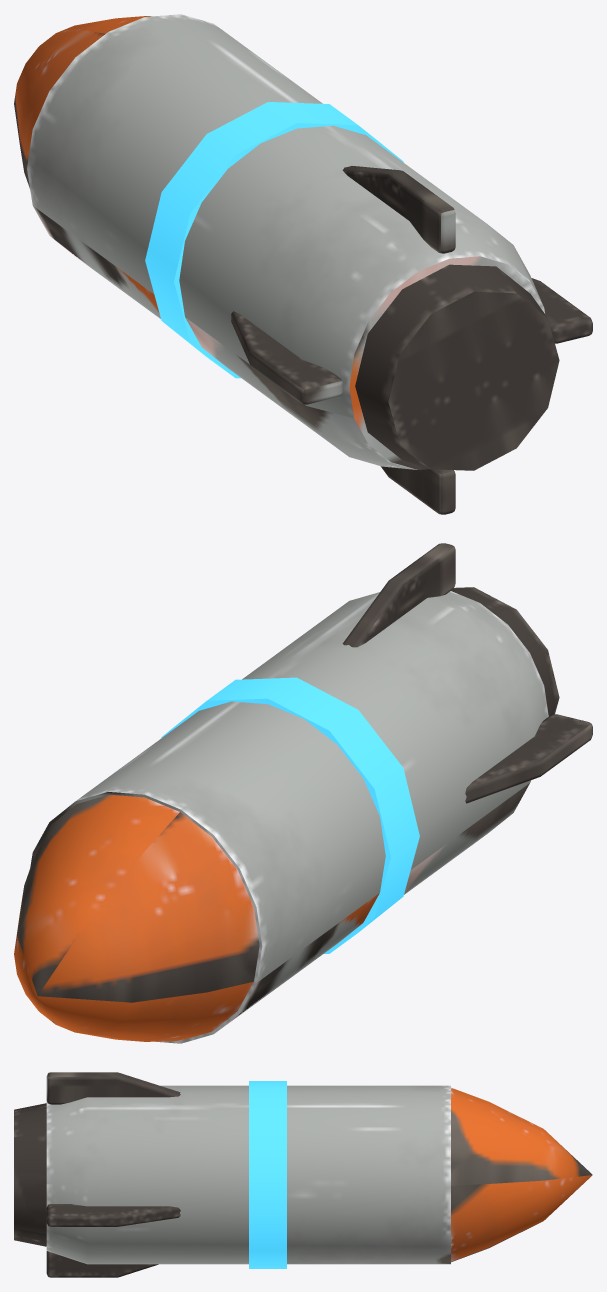
File: javelin-rocket.glb
The picture shows the model from 3 angles, top to bottom: view 1: azimuth 30°, elevation 25°; view 2: azimuth 150°, elevation 25°; view 3: azimuth 270°, elevation 25°; orthographic projection. The views are drawn at different scales.
Visible parts, largest first — view 1: Rocket_Body, Rocket_Nozzle, Rocket, Rocket_Band, Rocket_Warhead; view 2: Rocket_Body, Rocket_Warhead, Rocket_Band, Rocket, Rocket_Nozzle; view 3: Rocket_Body, Rocket_Warhead, Rocket, Rocket_Band, Rocket_Nozzle.
Boxes of the visible parts, x1,y1,x2,y2 form: Rocket_Body: (27,14,544,469); Rocket_Nozzle: (355,264,559,470); Rocket: (231,166,592,514); Rocket_Band: (145,102,403,378); Rocket_Warhead: (14,16,151,188); Rocket_Body: (30,591,548,1043); Rocket_Warhead: (14,794,259,1041); Rocket_Band: (161,677,419,953); Rocket: (342,543,592,803); Rocket_Nozzle: (451,587,559,716); Rocket_Body: (46,1085,450,1264); Rocket_Warhead: (451,1087,592,1262); Rocket: (46,1072,180,1277); Rocket_Band: (249,1081,286,1268); Rocket_Nozzle: (14,1103,46,1246).
Size of the model in its own units: 0.082 by 0.082 by 0.212.
Materials: 2 (1 with a texture image).
